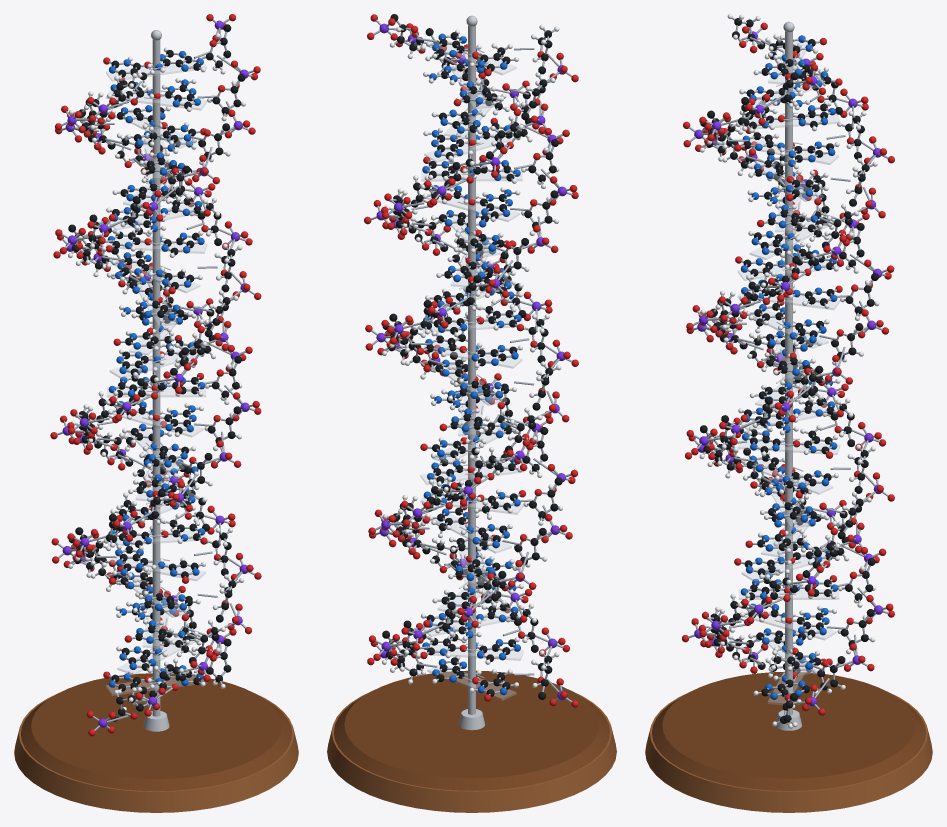
File: adn_full.glb
3 views of the same model, side by side, from view 1: azimuth 30°, elevation 25°; view 2: azimuth 150°, elevation 25°; view 3: azimuth 270°, elevation 25° (orthographic).
Visible parts, largest first — view 1: Baza_Druri_Dhe_Boshti, Pllakat_Stabilizuese, Baza_G (×7), Baza_A (×7), Baza_T (×6), Lidhjet_Fosfodiesterike, Baza_C (×2); view 2: Baza_Druri_Dhe_Boshti, Pllakat_Stabilizuese, Baza_T (×9), Baza_G (×8), Baza_A (×7), Lidhjet_Fosfodiesterike, Baza_C (×2), Deoksiriboze; view 3: Baza_Druri_Dhe_Boshti, Pllakat_Stabilizuese, Baza_A (×8), Baza_T (×6), Baza_G (×5), Baza_C (×3), Lidhjet_Fosfodiesterike.
Part boxes in pixels (x1,y1,x2,y2): Baza_Druri_Dhe_Boshti: (14,30,298,812); Pllakat_Stabilizuese: (106,59,206,695); Baza_G (×7): (106,78,203,612); Baza_A (×7): (112,47,205,672); Baza_T (×6): (103,56,207,700); Lidhjet_Fosfodiesterike: (69,55,242,702); Baza_C (×2): (124,267,202,643); Baza_Druri_Dhe_Boshti: (327,15,616,812); Pllakat_Stabilizuese: (420,39,523,700); Baza_T (×9): (416,43,525,701); Baza_G (×8): (421,59,520,640); Baza_A (×7): (431,29,522,683); Lidhjet_Fosfodiesterike: (383,38,559,665); Baza_C (×2): (439,80,501,432); Deoksiriboze: (523,477,562,525); Baza_Druri_Dhe_Boshti: (645,21,932,812); Pllakat_Stabilizuese: (738,41,839,704); Baza_A (×8): (742,54,835,699); Baza_T (×6): (745,170,837,671); Baza_G (×5): (738,141,839,639); Baza_C (×3): (734,203,842,578); Lidhjet_Fosfodiesterike: (701,37,875,698).
Size of the model in its own units: 4.8 by 13.44 by 4.8.
